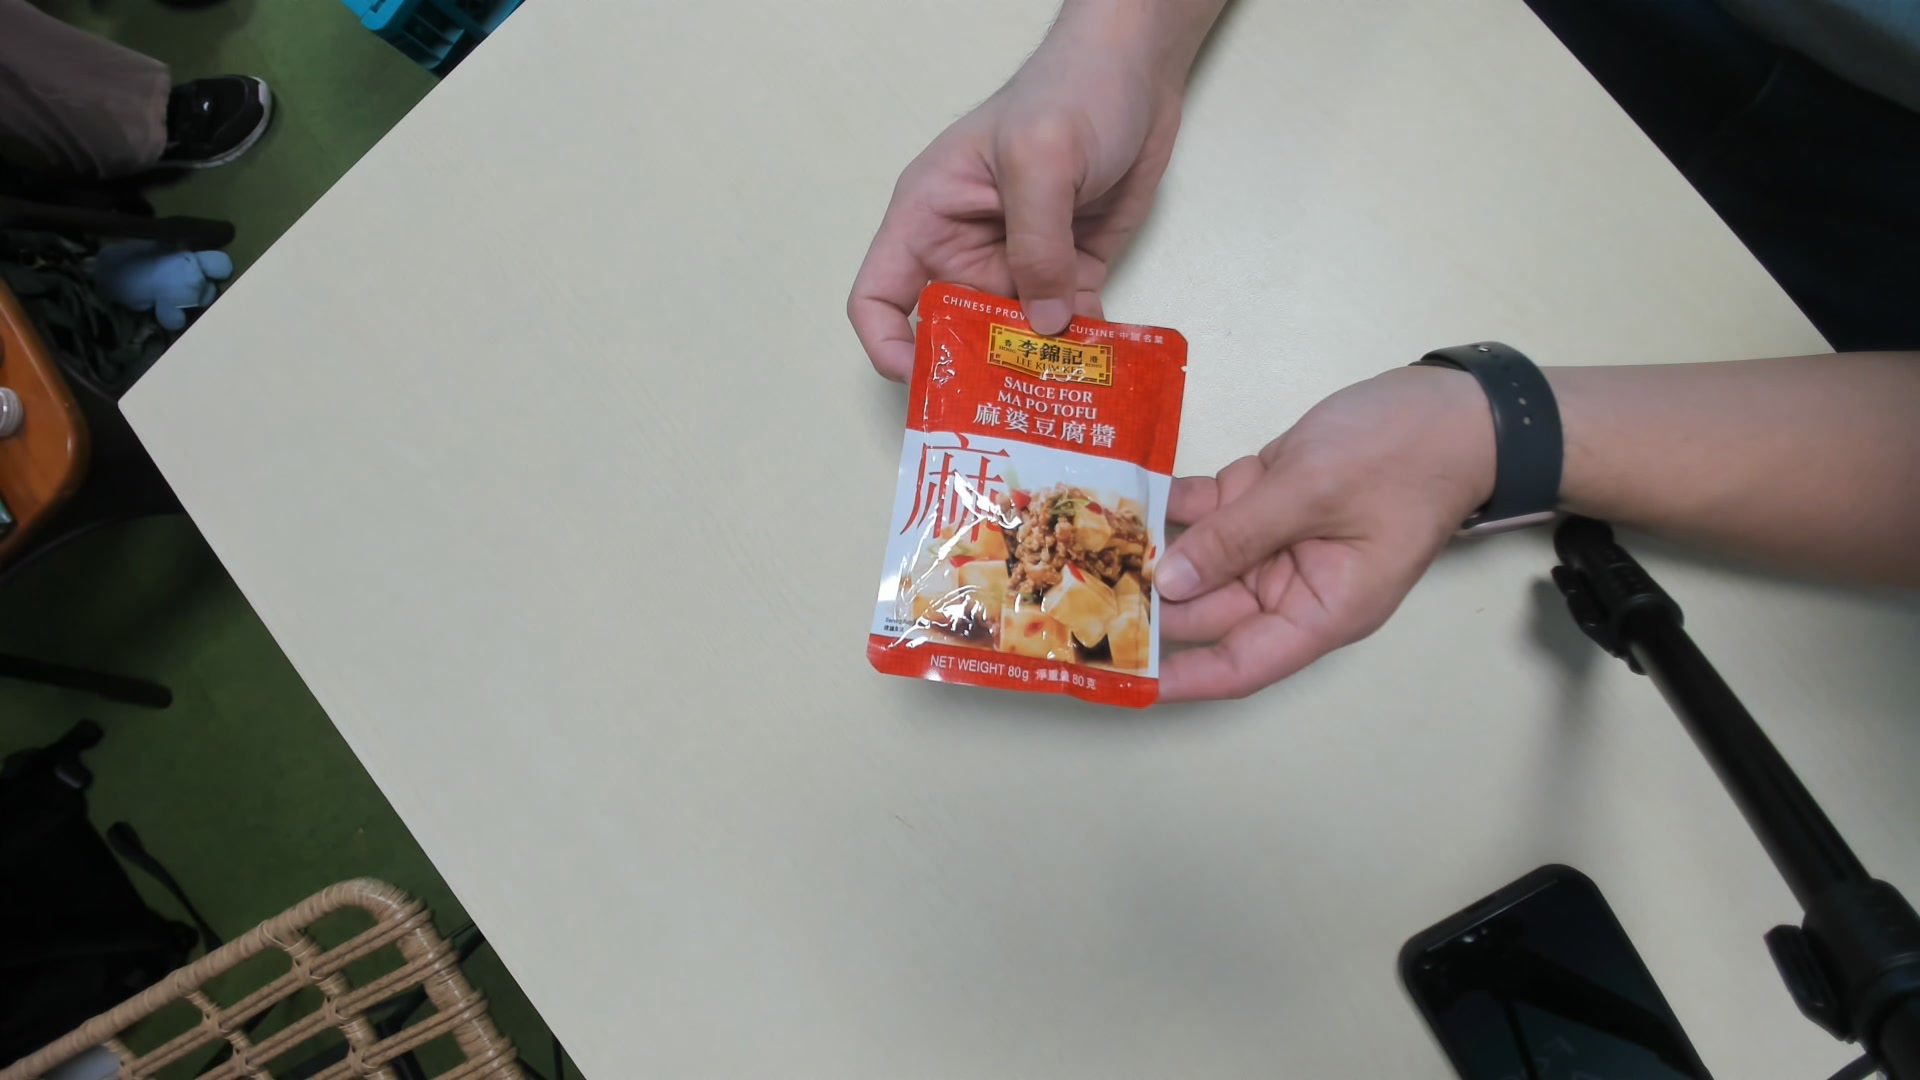OtherSauceDressing_0-99g_NonHalal_NonHealthy: (862, 284, 1192, 719)
